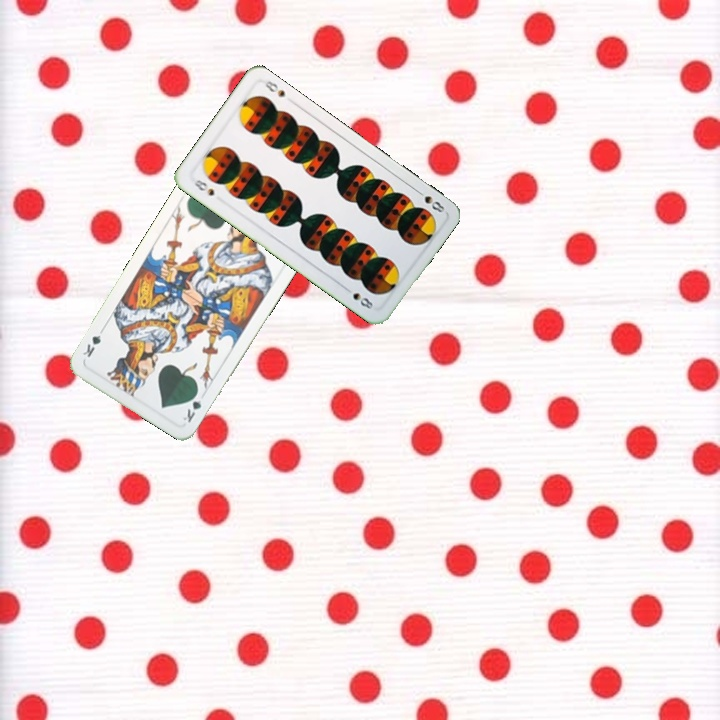GK: (178, 387, 204, 425)
S8: (412, 186, 447, 215), (189, 175, 217, 199)
